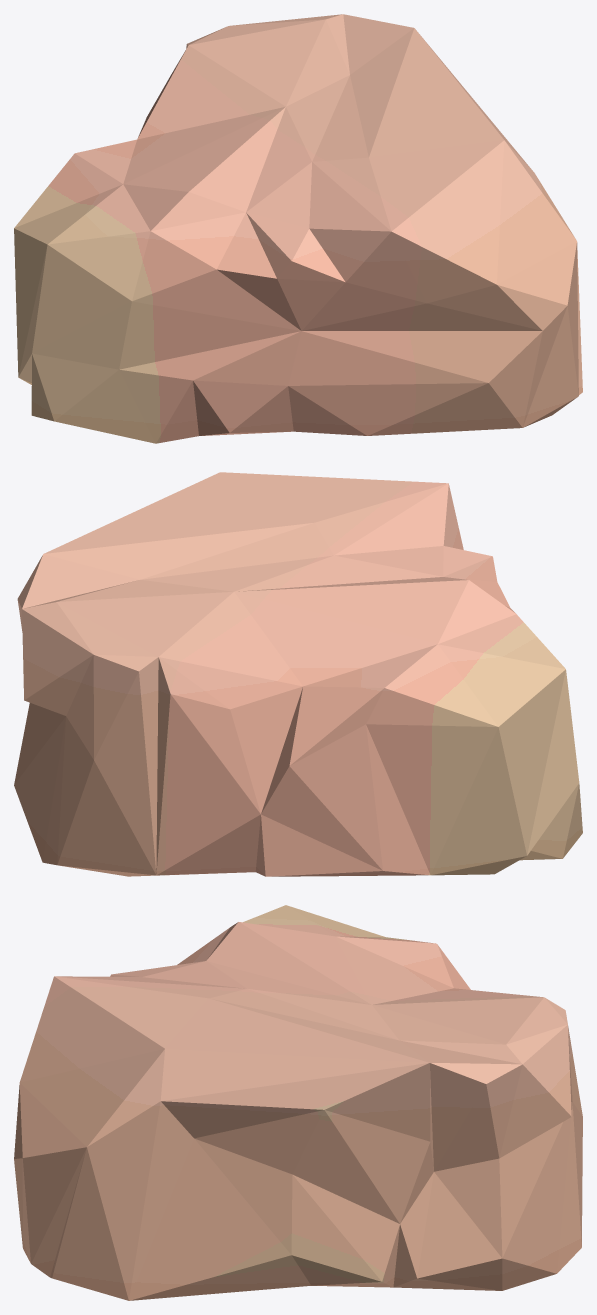
The model's file is DC_PillarTrillion1.fbx.
3 renders of one model, top to bottom at view 1: azimuth 30°, elevation 25°; view 2: azimuth 150°, elevation 25°; view 3: azimuth 270°, elevation 25°, orthographic. The views are drawn at different scales.
Visible parts, largest first — view 1: PillarTrillion1; view 2: PillarTrillion1; view 3: PillarTrillion1.
Boxes of the visible parts, x1,y1,x2,y2 form: PillarTrillion1: (14, 14, 582, 443); PillarTrillion1: (14, 472, 582, 876); PillarTrillion1: (14, 905, 582, 1300).
Bounding box in the file's own units: 2.02 × 1.01 × 2.13.
1 material, 1 textured.
